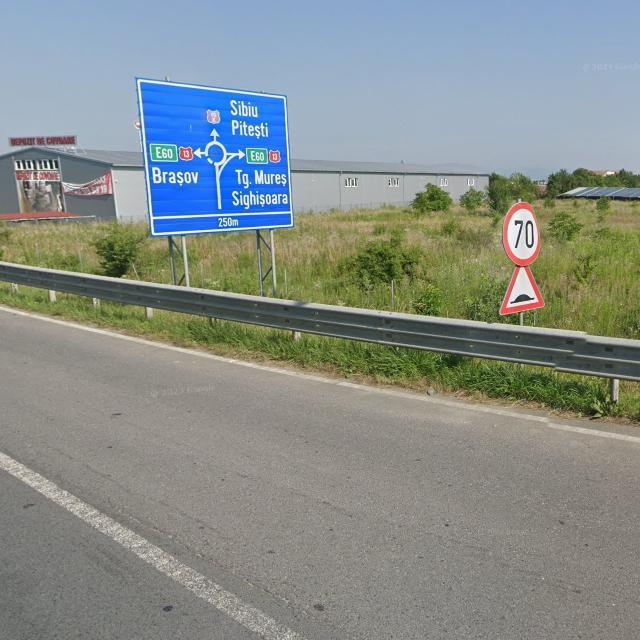forb_speed_over_70: (502, 201, 541, 266)
